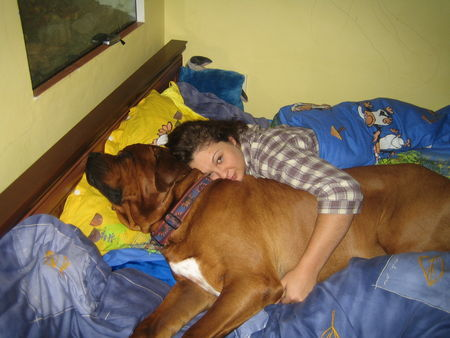human_face: (188, 135, 246, 182)
person: (166, 120, 366, 303)
tosa_inu: (84, 142, 450, 338)
